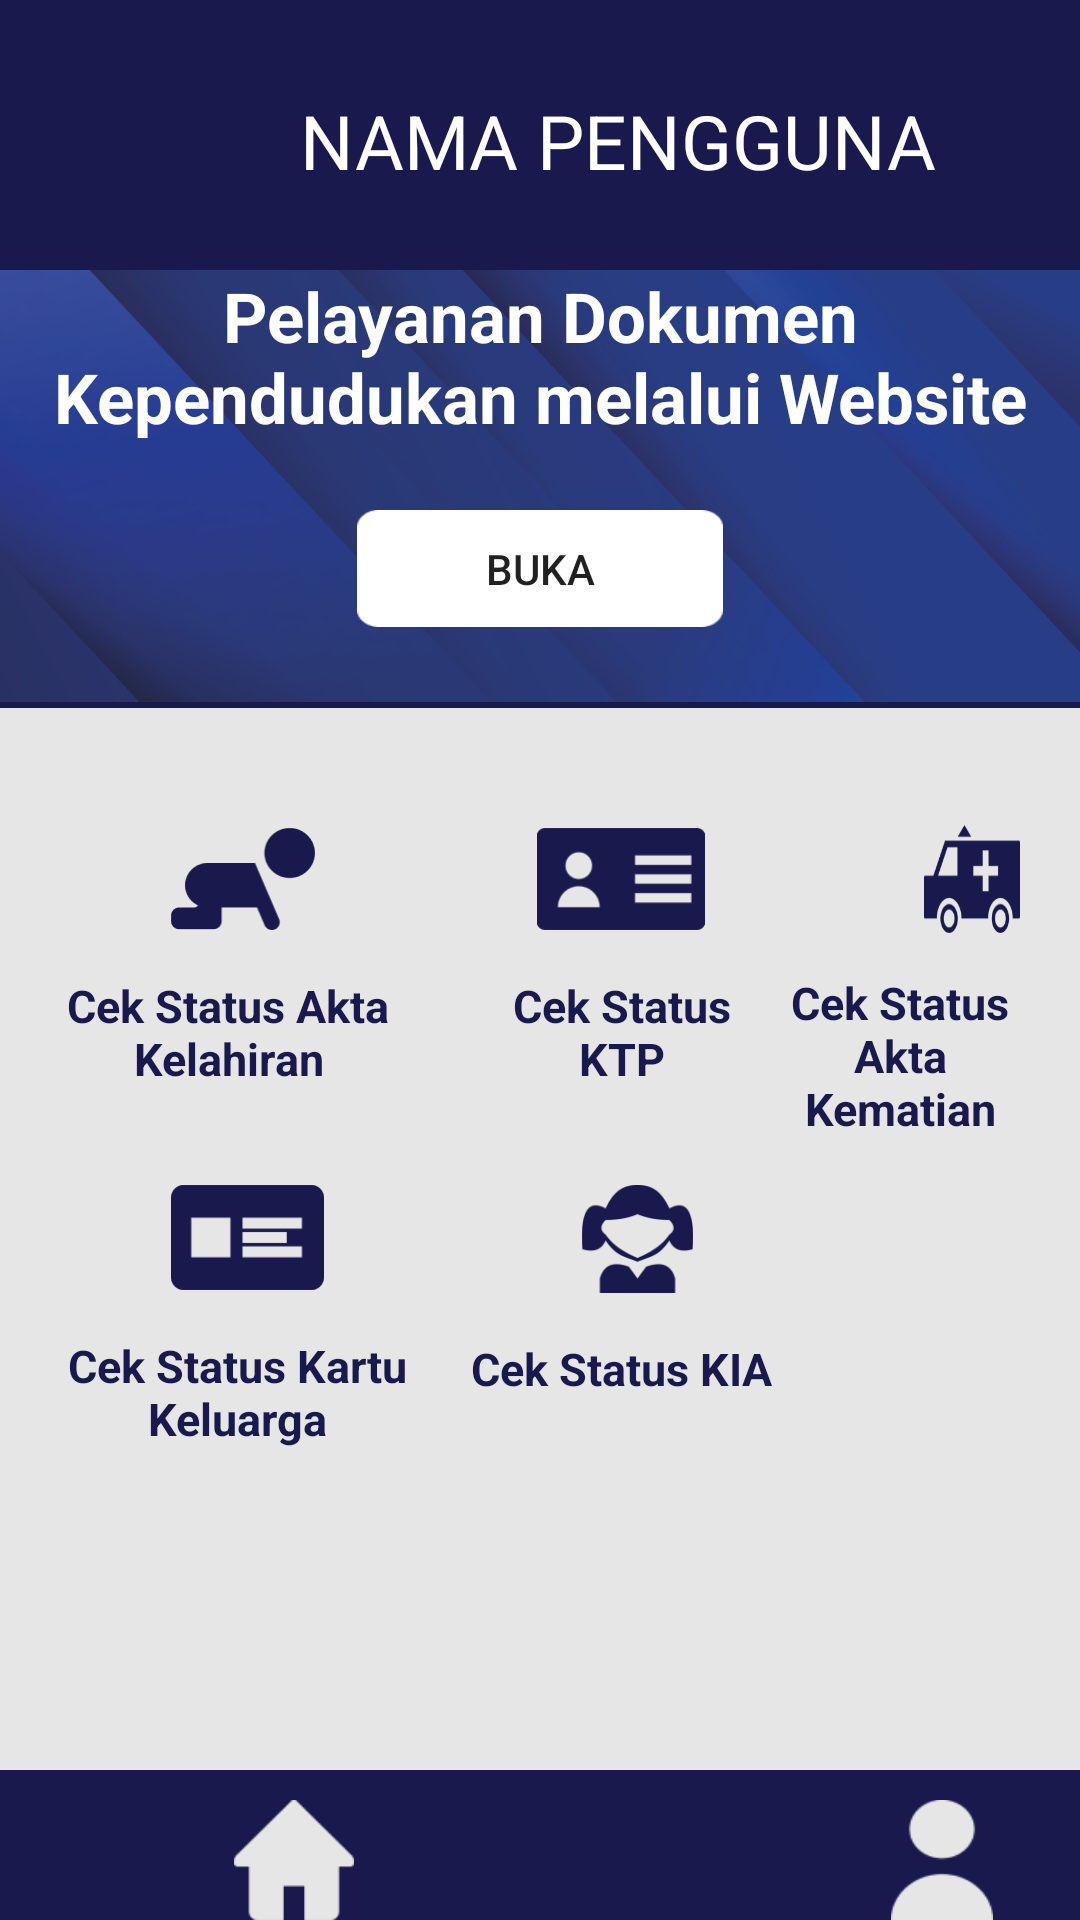

Named icons in this screenshot (1080w x 1920h) and their centers, (x,y):
home: (294,1860)
orang: (942,1860)
